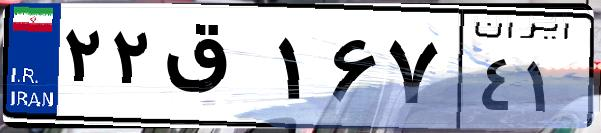1: (270, 28, 330, 110), (525, 38, 570, 115)
2: (57, 26, 110, 100), (110, 28, 158, 98)
4: (475, 38, 525, 113)
6: (330, 28, 385, 110)
7: (385, 28, 445, 110)
ق: (158, 20, 270, 120)
